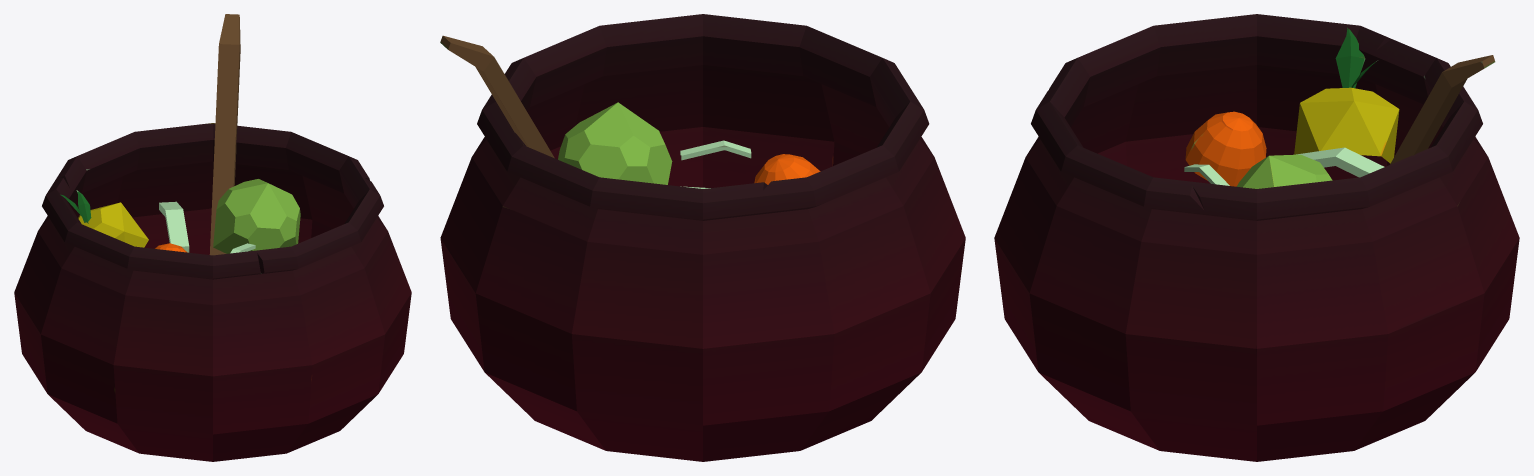
The model's file is 口味锅.fbx.
The picture shows the model from 3 angles, left to right: view 1: azimuth 30°, elevation 25°; view 2: azimuth 150°, elevation 25°; view 3: azimuth 270°, elevation 25°; orthographic projection. The views are drawn at different scales.
Visible parts, largest first — view 1: 3222.001; view 2: 3222.001; view 3: 3222.001.
Boxes of the visible parts, x1=… form: 3222.001: x1=14, y1=14, x2=411, y2=461; 3222.001: x1=440, y1=14, x2=965, y2=461; 3222.001: x1=994, y1=14, x2=1519, y2=461.
Bounding box in the file's own units: 215 × 197 × 215.
